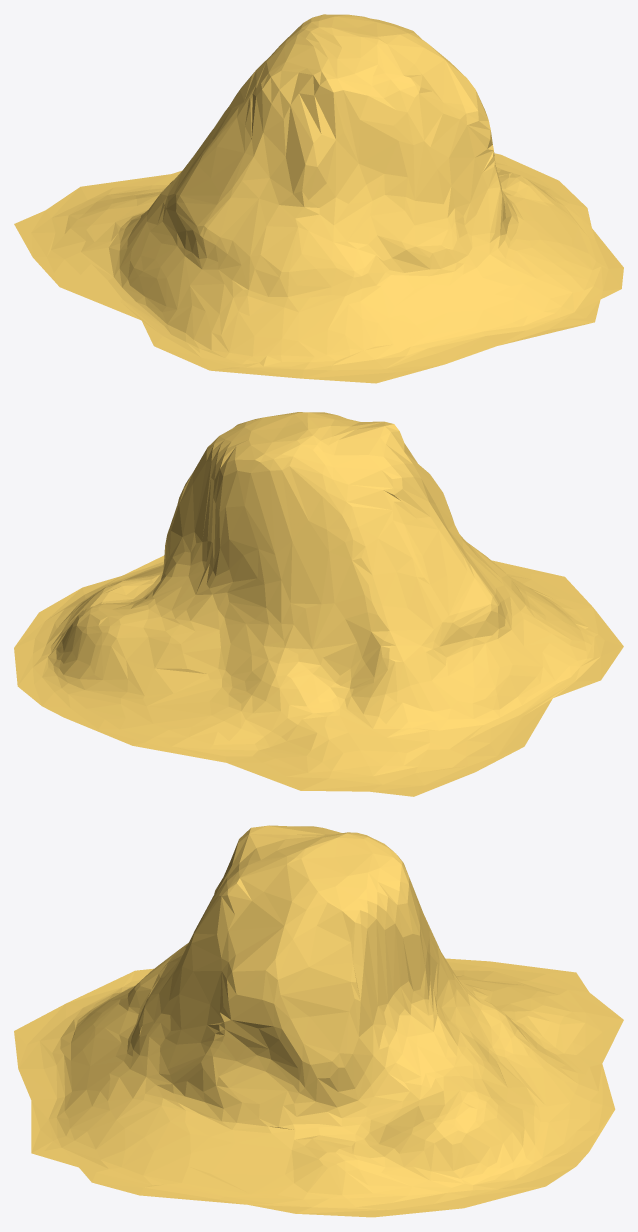
The model's file is Terrain 09.FBX.
The picture shows the model from 3 angles, top to bottom: view 1: azimuth 30°, elevation 25°; view 2: azimuth 150°, elevation 25°; view 3: azimuth 270°, elevation 25°; orthographic projection. The views are drawn at different scales.
Visible parts, largest first — view 1: plane; view 2: plane; view 3: plane.
Part boxes in pixels (x1,y1,x2,y2): plane: [14, 14, 623, 383]; plane: [14, 412, 623, 796]; plane: [14, 825, 623, 1217].
Bounding box in the file's own units: 106 × 46.78 × 104.
